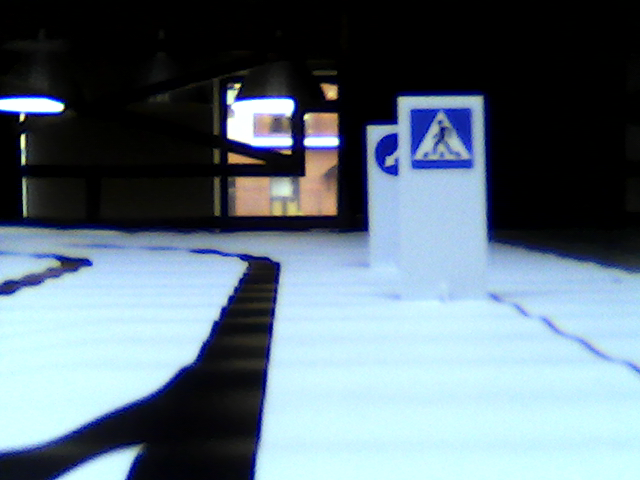pesh: (409, 108, 472, 170)
prep: (374, 129, 403, 177)
